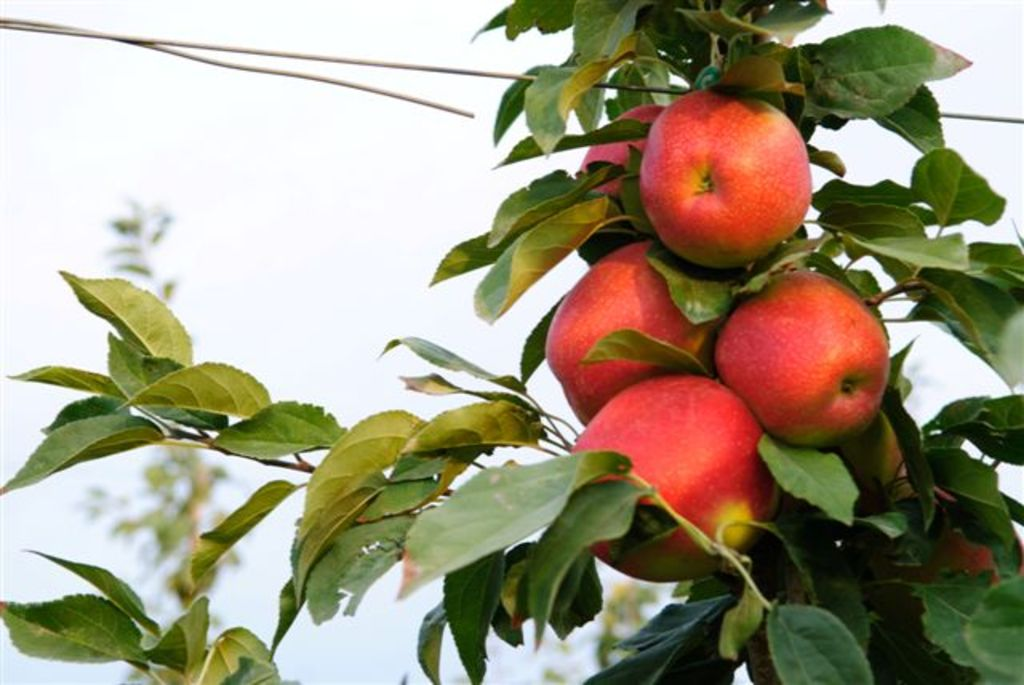Apple: (566, 374, 779, 582), (536, 243, 729, 428), (651, 86, 814, 273), (710, 272, 883, 443), (857, 497, 1022, 590), (574, 100, 665, 195), (839, 412, 915, 496)
